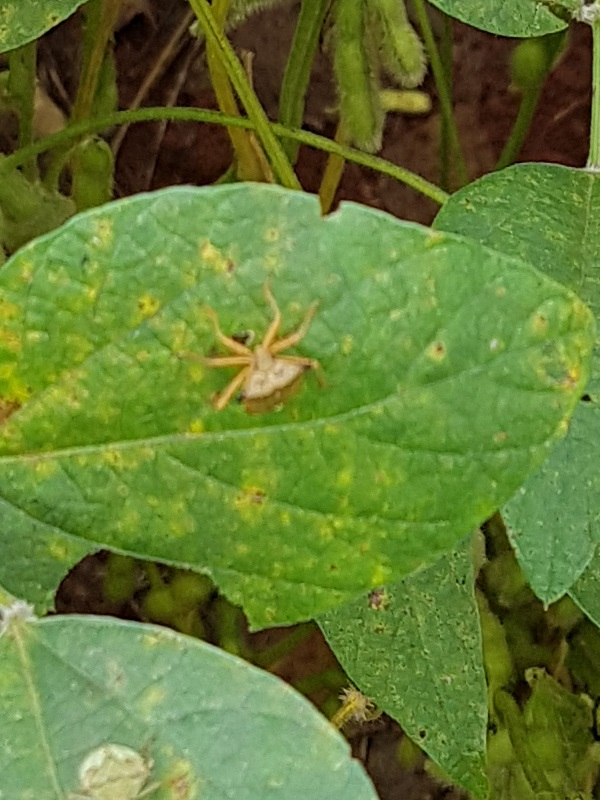Euschistus_heros_adulto: (176, 274, 335, 441)
